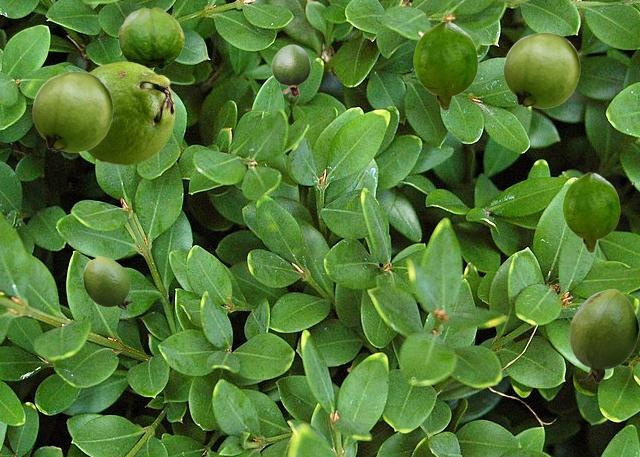guava: (87, 61, 174, 164), (569, 289, 638, 382), (32, 71, 112, 151), (503, 32, 579, 107), (413, 21, 477, 110), (562, 172, 619, 252), (118, 7, 183, 68), (83, 256, 132, 308), (271, 44, 310, 96)
